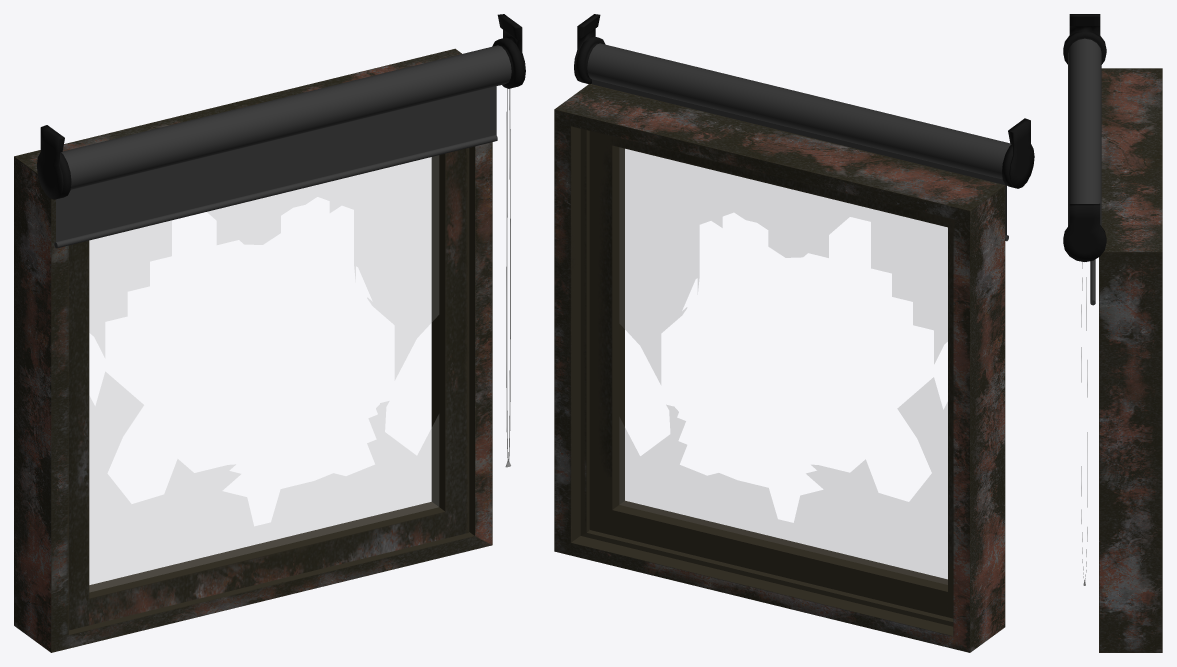
File: window_broken.glb
3 views of the same model, side by side, from view 1: azimuth 30°, elevation 25°; view 2: azimuth 150°, elevation 25°; view 3: azimuth 270°, elevation 25° (orthographic). The views are drawn at different scales.
Parts seen in each view (by area): view 1: up, f, Panel, Roller, Side.L, Side.R, String; view 2: up, f, Roller, Panel, Side.L, Side.R; view 3: f, Roller, Side.R, Side.L, String, Panel.
Boxes of the visible parts, x1,y1,x2,y2 form: up: (69, 148, 469, 630); f: (14, 48, 492, 652); Panel: (54, 86, 497, 248); Roller: (61, 45, 511, 189); Side.L: (36, 125, 71, 199); Side.R: (492, 14, 525, 88); String: (506, 88, 510, 461); up: (589, 131, 953, 618); f: (554, 84, 1005, 652); Roller: (587, 43, 1011, 179); Panel: (592, 79, 1008, 241); Side.L: (1002, 118, 1034, 188); Side.R: (574, 14, 605, 83); f: (1099, 68, 1162, 652); Roller: (1068, 38, 1101, 226); Side.R: (1063, 203, 1106, 261); Side.L: (1063, 14, 1106, 64); String: (1081, 262, 1087, 580); Panel: (1090, 259, 1095, 305).
Size of the model in its own units: 0.9456 by 1.03 by 0.206.
6 materials, 2 textured.
